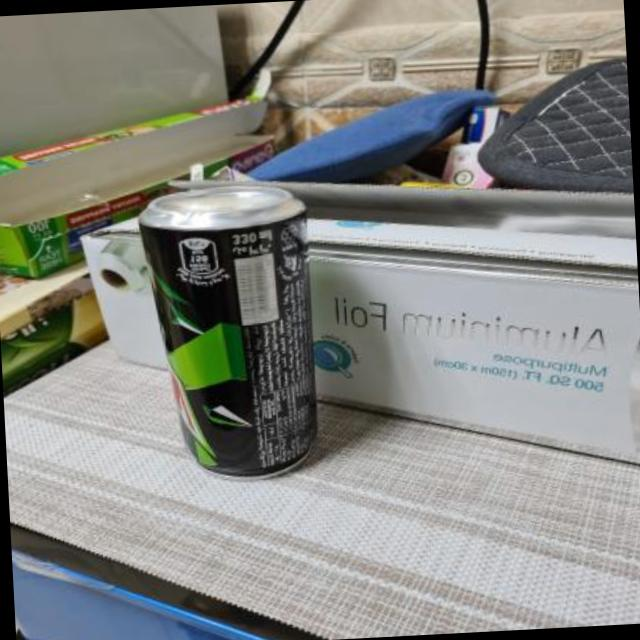metal: (144, 183, 318, 472)
